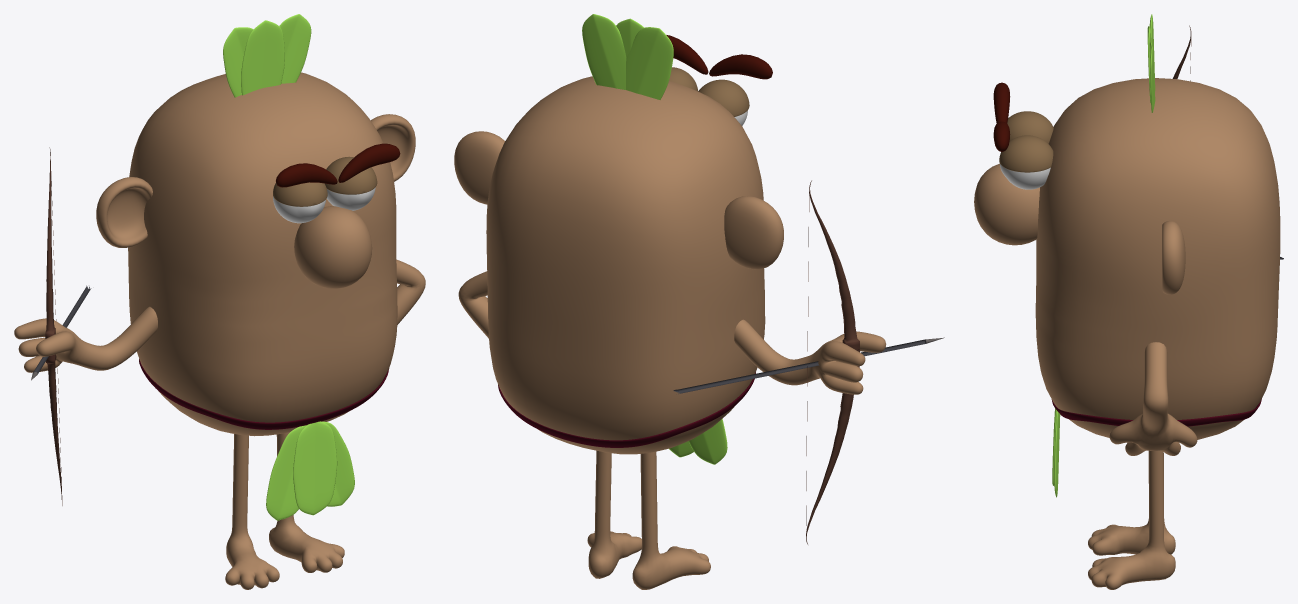
File: indioarqueiro.fbx
3 views of the same model, side by side, from view 1: azimuth 30°, elevation 25°; view 2: azimuth 150°, elevation 25°; view 3: azimuth 270°, elevation 25° (orthographic). The views are drawn at different scales.
Visible parts, largest first — view 1: Cube.006, Plane.027, Plane.023, Sphere.010, Cube.010, Plane.026, Cube_Cube.001, Cube.011, Plane.024, Sphere.009, Plane.022, Plane.025; view 2: Cube.006, Plane.022, Cube_Cube.001, Plane.024, Cube.011, Cube.010, Sphere.010, Cylinder.001_Cylinder.004, Plane.026; view 3: Cube.006, Sphere.010, Cube.011, Cube.010, Sphere.009.
Part boxes in pixels (x1,y1,x2,y2): Cube.006: (14, 72, 425, 589); Plane.027: (293, 421, 337, 515); Plane.023: (241, 20, 284, 95); Sphere.010: (273, 156, 377, 206); Cube.010: (276, 143, 400, 187); Plane.026: (266, 425, 306, 520); Cube_Cube.001: (45, 147, 62, 505); Cube.011: (139, 359, 388, 429); Plane.024: (279, 14, 311, 83); Sphere.009: (273, 187, 375, 223); Plane.022: (223, 27, 253, 97); Plane.025: (322, 421, 354, 506); Cube.006: (454, 76, 886, 589); Plane.022: (626, 27, 673, 99); Cube_Cube.001: (806, 180, 859, 544); Plane.024: (582, 14, 626, 89); Cube.011: (498, 372, 755, 447); Cube.010: (666, 35, 772, 79); Sphere.010: (669, 67, 749, 116); Cylinder.001_Cylinder.004: (673, 337, 944, 393); Plane.026: (688, 419, 727, 464); Cube.006: (974, 78, 1280, 589); Sphere.010: (999, 111, 1053, 172); Cube.011: (1051, 399, 1261, 426); Cube.010: (993, 82, 1010, 151); Sphere.009: (999, 163, 1050, 189).
Bounding box in the file's own units: 1516 × 1819 × 946.
